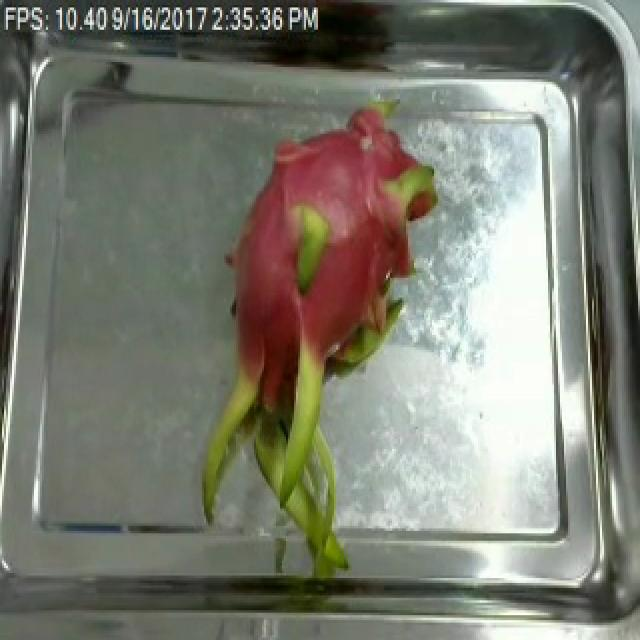fruit: (176, 134, 434, 566)
